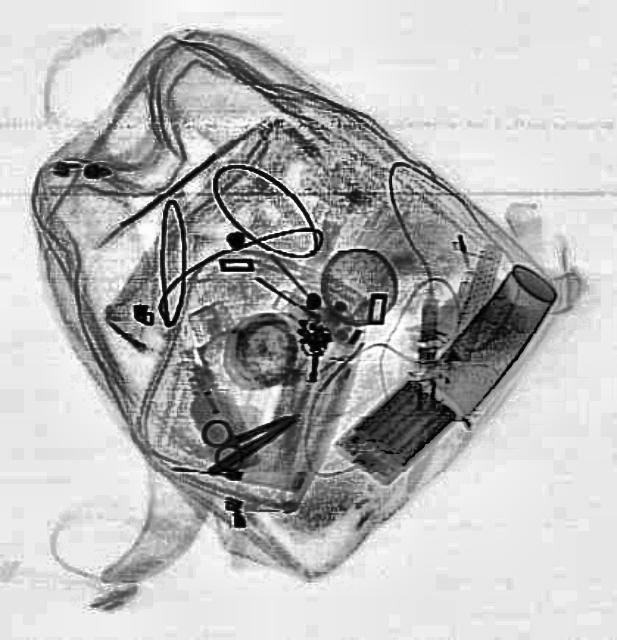Scissors: (194, 388, 306, 476)
